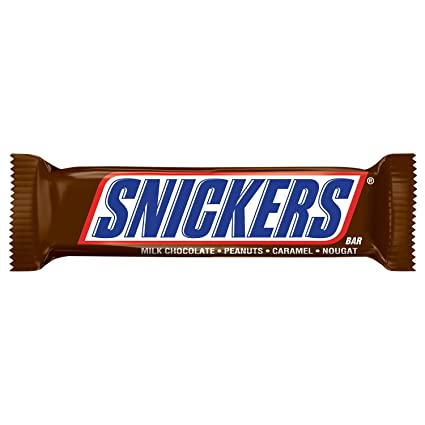snickers: (7, 150, 420, 277)
